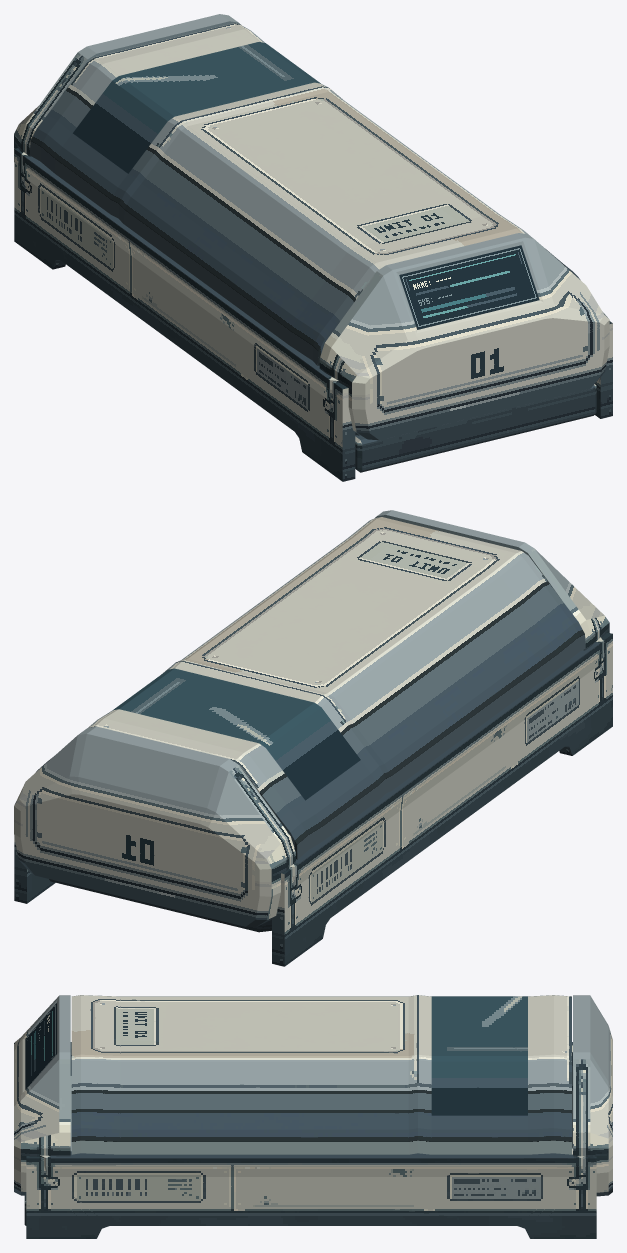
The model's file is pod_closed_v3.glb.
The picture shows the model from 3 angles, top to bottom: view 1: azimuth 30°, elevation 25°; view 2: azimuth 150°, elevation 25°; view 3: azimuth 270°, elevation 25°; orthographic projection. The views are drawn at different scales.
Parts seen in each view (by area): view 1: pod_v3_lid, pod_v3_shell_end, pod_v3_shell_side, pod_v3_glass, pod_v3_display; view 2: pod_v3_lid, pod_v3_shell_end, pod_v3_shell_side, pod_v3_glass; view 3: pod_v3_lid, pod_v3_shell_side, pod_v3_glass, pod_v3_shell_end, pod_v3_display.
Part boxes in pixels (x1,y1,x2,y2): pod_v3_lid: (29,23,580,365); pod_v3_shell_end: (19,14,612,481); pod_v3_shell_side: (14,52,612,481); pod_v3_glass: (73,42,320,173); pod_v3_display: (399,245,539,329); pod_v3_lid: (36,517,585,859); pod_v3_shell_end: (14,510,604,966); pod_v3_shell_side: (14,548,612,966); pod_v3_glass: (113,668,360,800); pod_v3_lid: (71,995,571,1154); pod_v3_shell_side: (21,1042,608,1238); pod_v3_glass: (431,996,527,1115); pod_v3_shell_end: (14,995,612,1201); pod_v3_display: (25,1003,56,1089).
Bounding box in the file's own units: 1.05 × 0.665 × 2.29.
7 materials, 7 textured.
